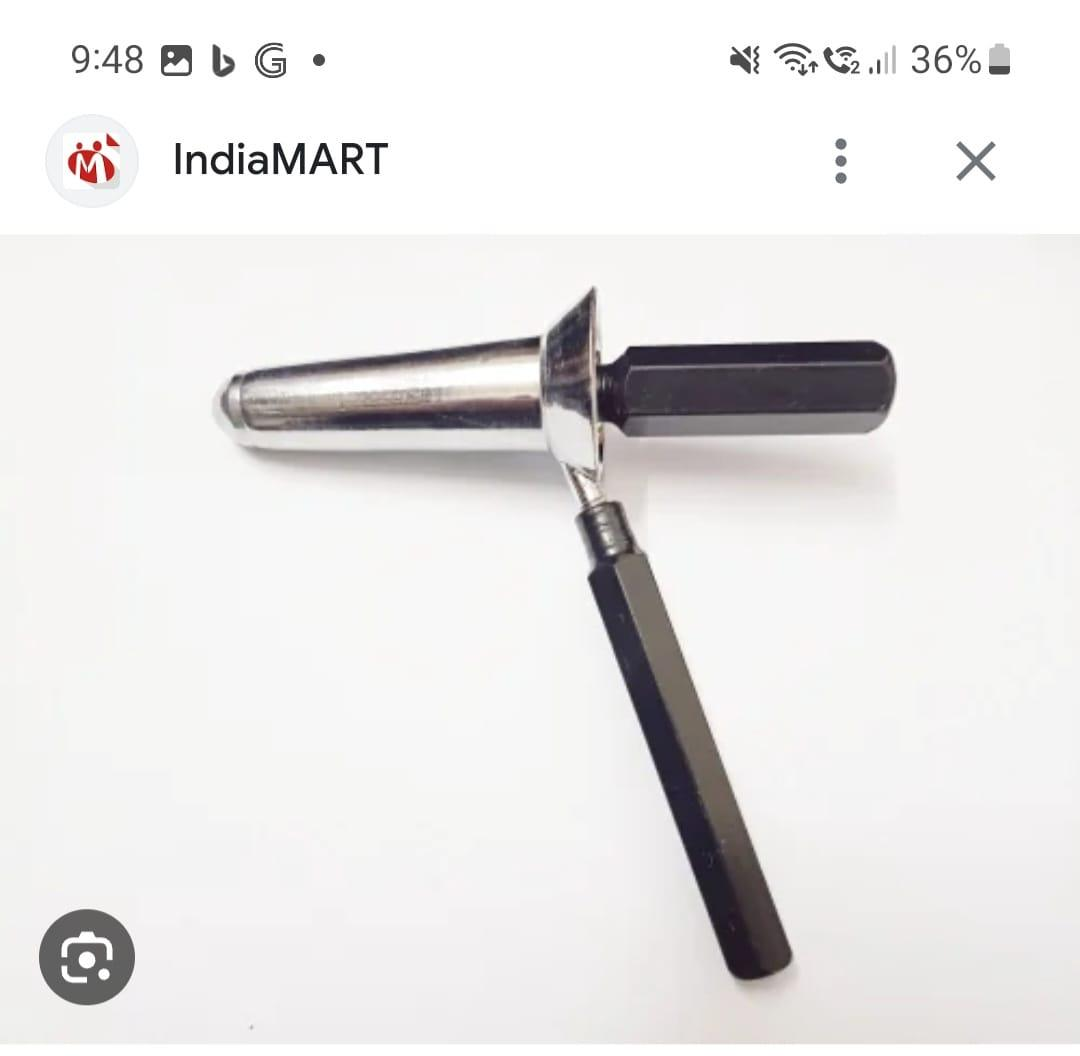Protoscope: (203, 275, 927, 985)
